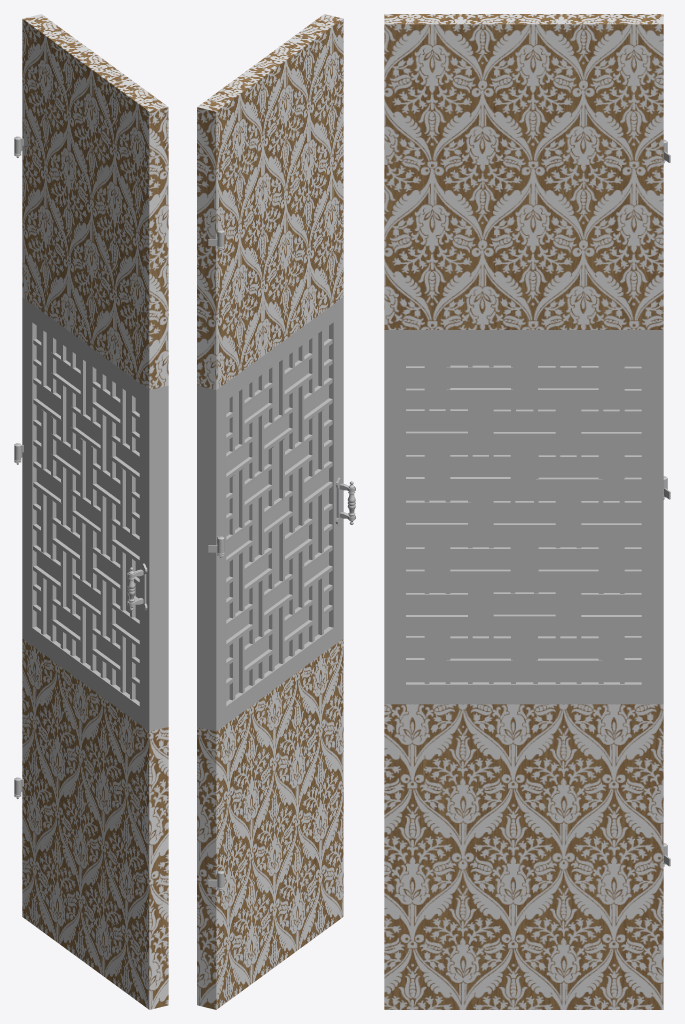
Rendered from SM_Door07F.fbx.
The picture shows the model from 3 angles, left to right: view 1: azimuth 30°, elevation 25°; view 2: azimuth 150°, elevation 25°; view 3: azimuth 270°, elevation 25°; orthographic projection. The views are drawn at different scales.
Parts seen in each view (by area): view 1: SM_Door07F; view 2: SM_Door07F; view 3: SM_Door07F.
Part boxes in pixels (x1=…): SM_Door07F: x1=14, y1=14, x2=168, y2=1009; SM_Door07F: x1=197, y1=14, x2=355, y2=1009; SM_Door07F: x1=384, y1=14, x2=670, y2=1009.
Size of the model in its own units: 9.88 by 62.84 by 239.
